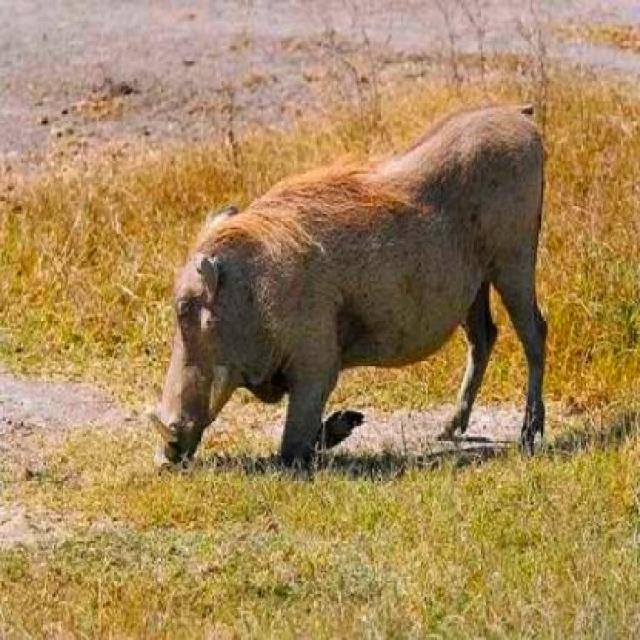Boar: (123, 80, 540, 502)
